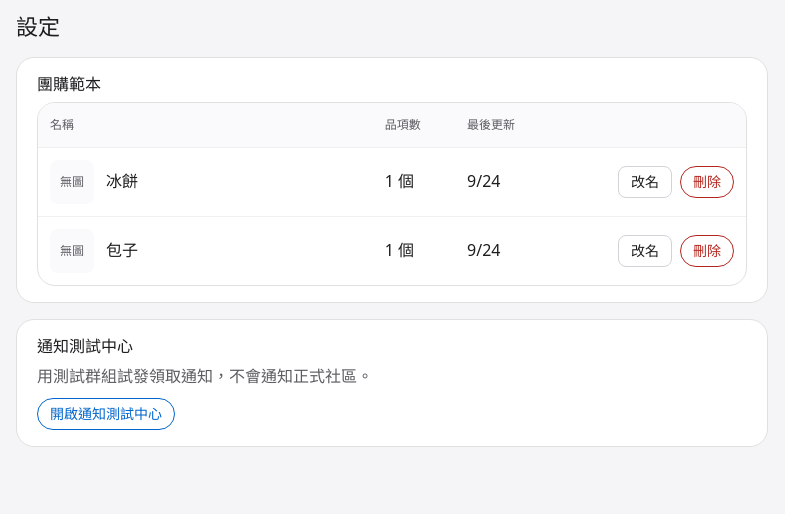
template settings › renames a template in place and blocks a duplicate name
Step 1. Click the button with aria-label "改名 冰餅" → (645, 182), box [618, 166, 672, 198]
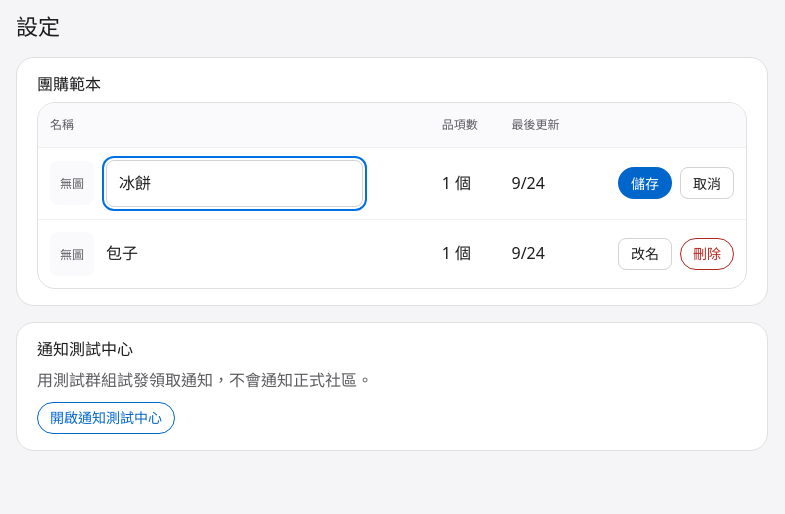
Step 2. Replace the text in the field named "冰餅 的新名稱" with " 包子 " → (234, 183), box [106, 160, 363, 207]
Then press Enter
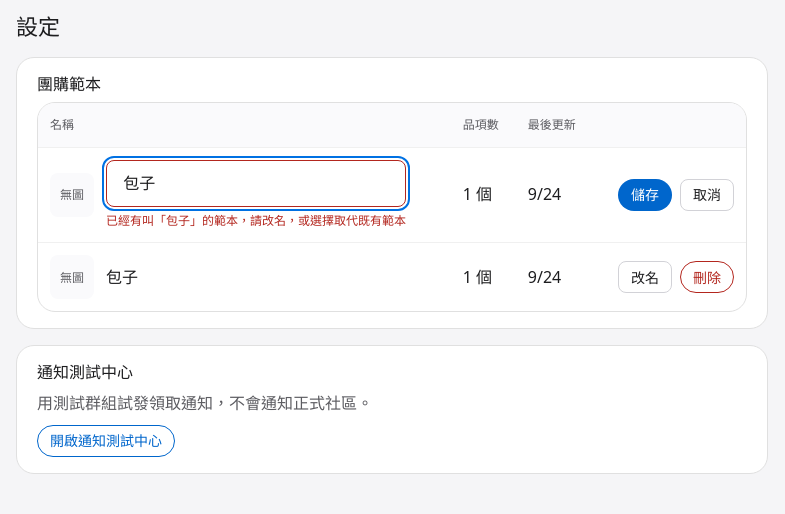
Result: the message shows "已經有叫「包子」的範本" at [106, 212, 406, 229]
Step 3. Clear the field named "冰餅 的新名稱" → (256, 183), box [106, 160, 406, 207]
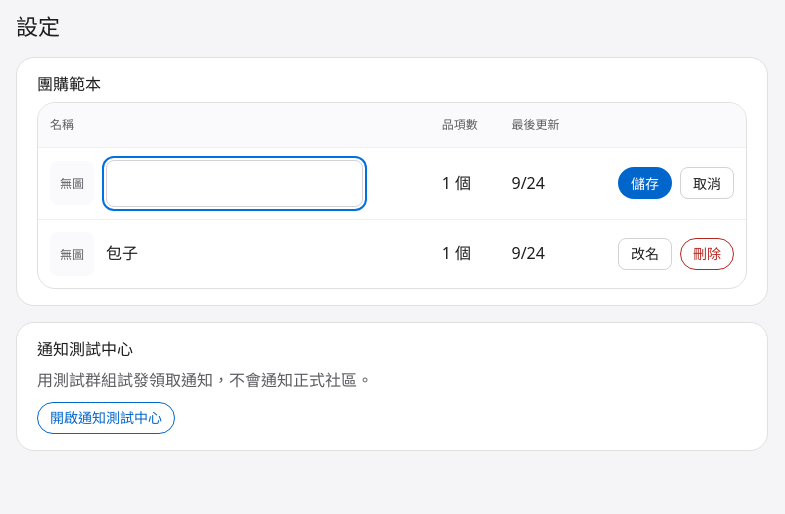
Step 4. Type "冰餅（每月）" into the field named "冰餅 的新名稱" → (234, 183), box [106, 160, 363, 207]
Then press Enter
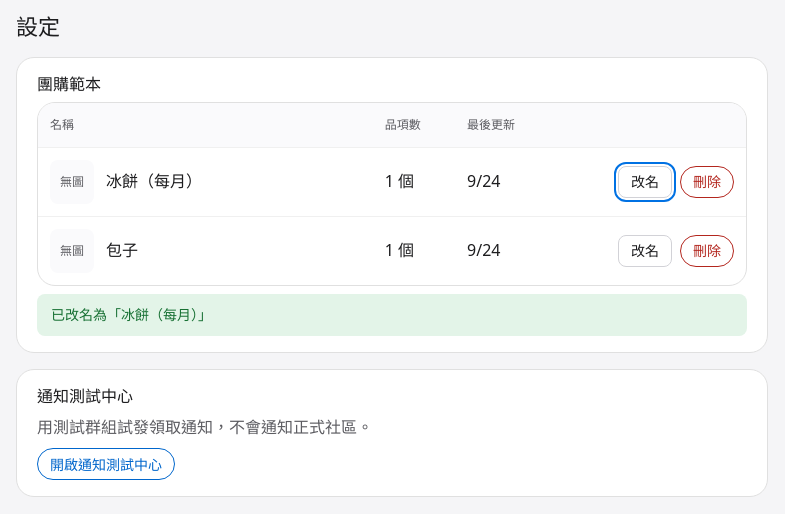
Result: the column heading "冰餅（每月）" is shown at [38, 147, 373, 216]
